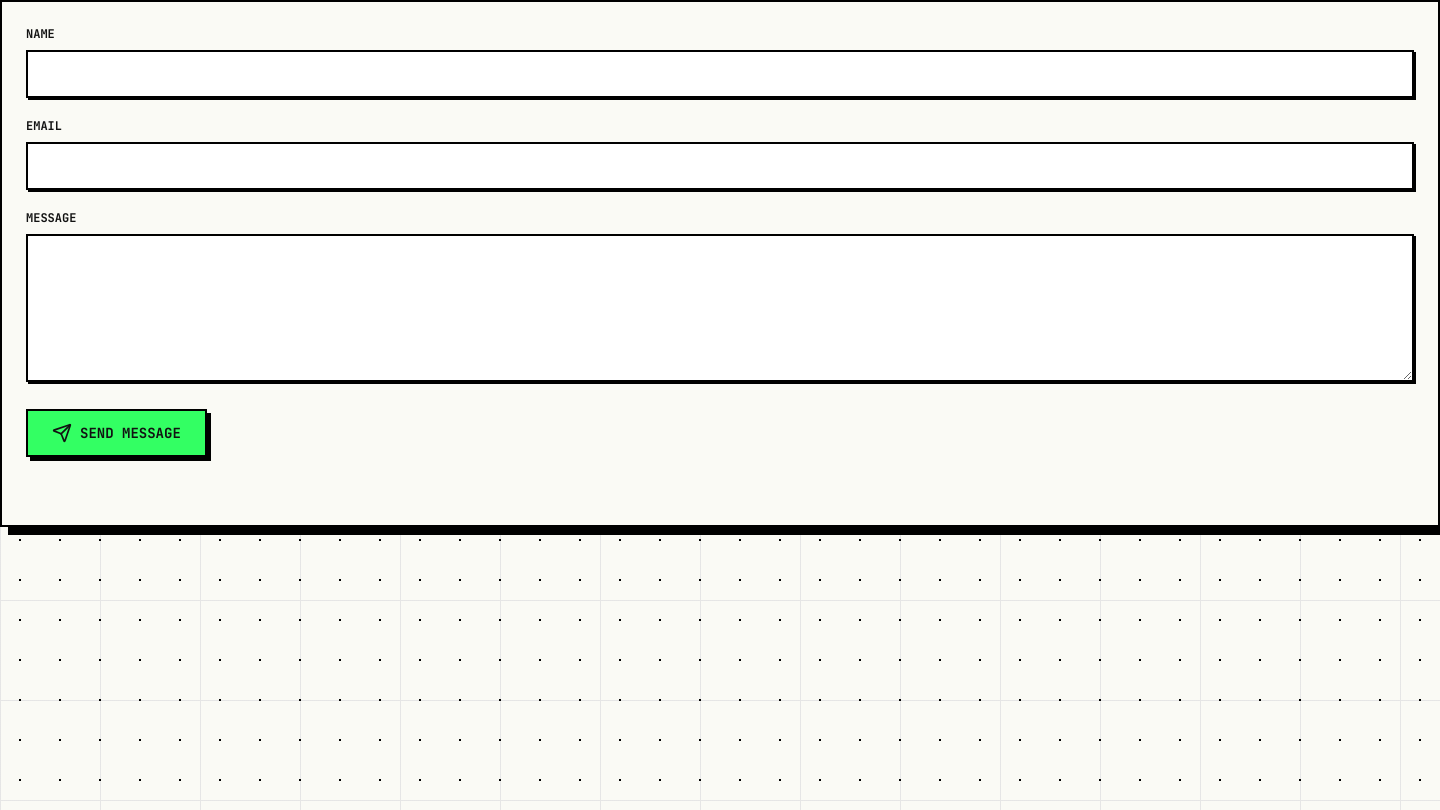
Test: ContactForm › opens a mailto link with encoded content when valid
Type "Jane" into the field labelled "NAME" at [720, 74], box [26,50,1414,98]
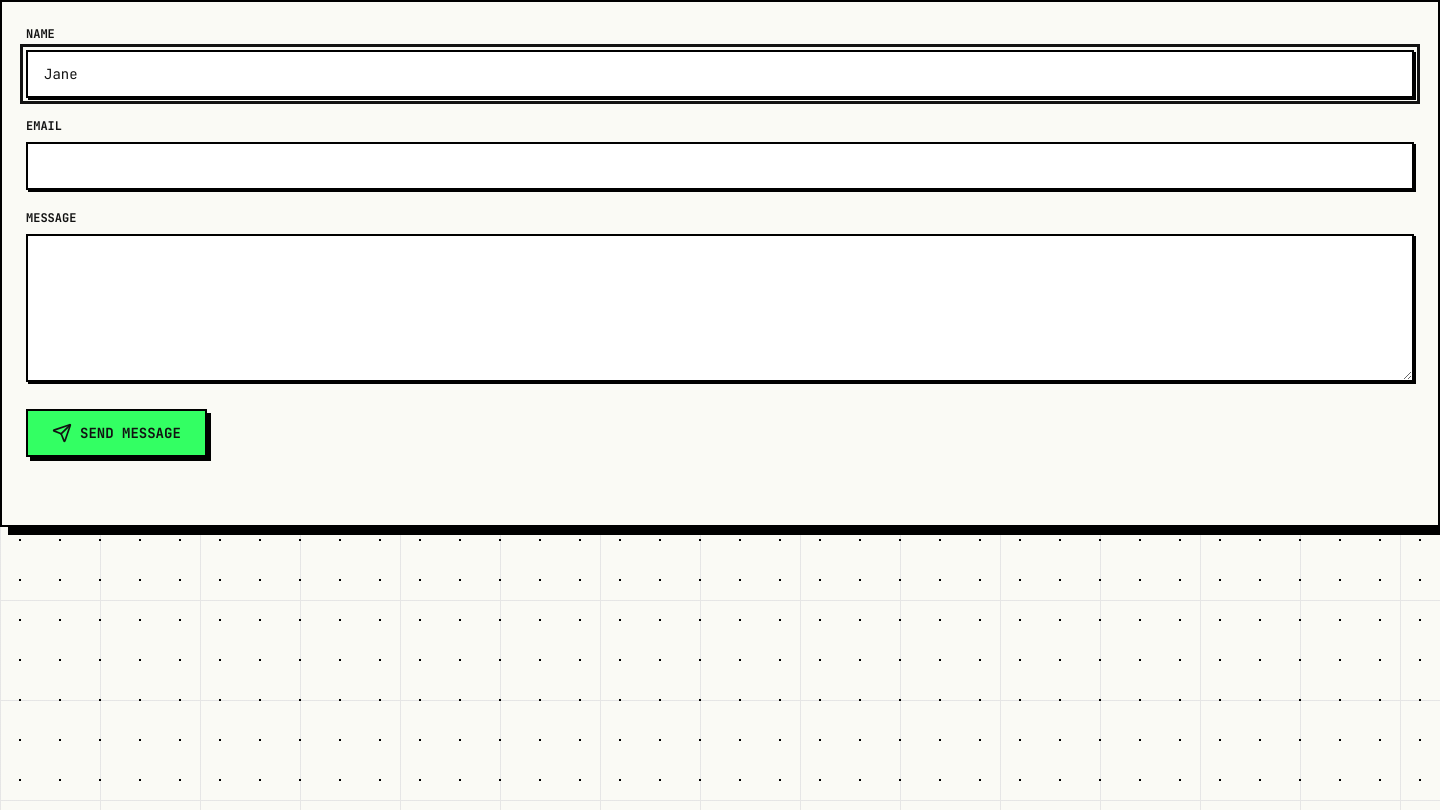
Type "jane@example.com" into the field labelled "EMAIL" at [720, 166], box [26,142,1414,190]
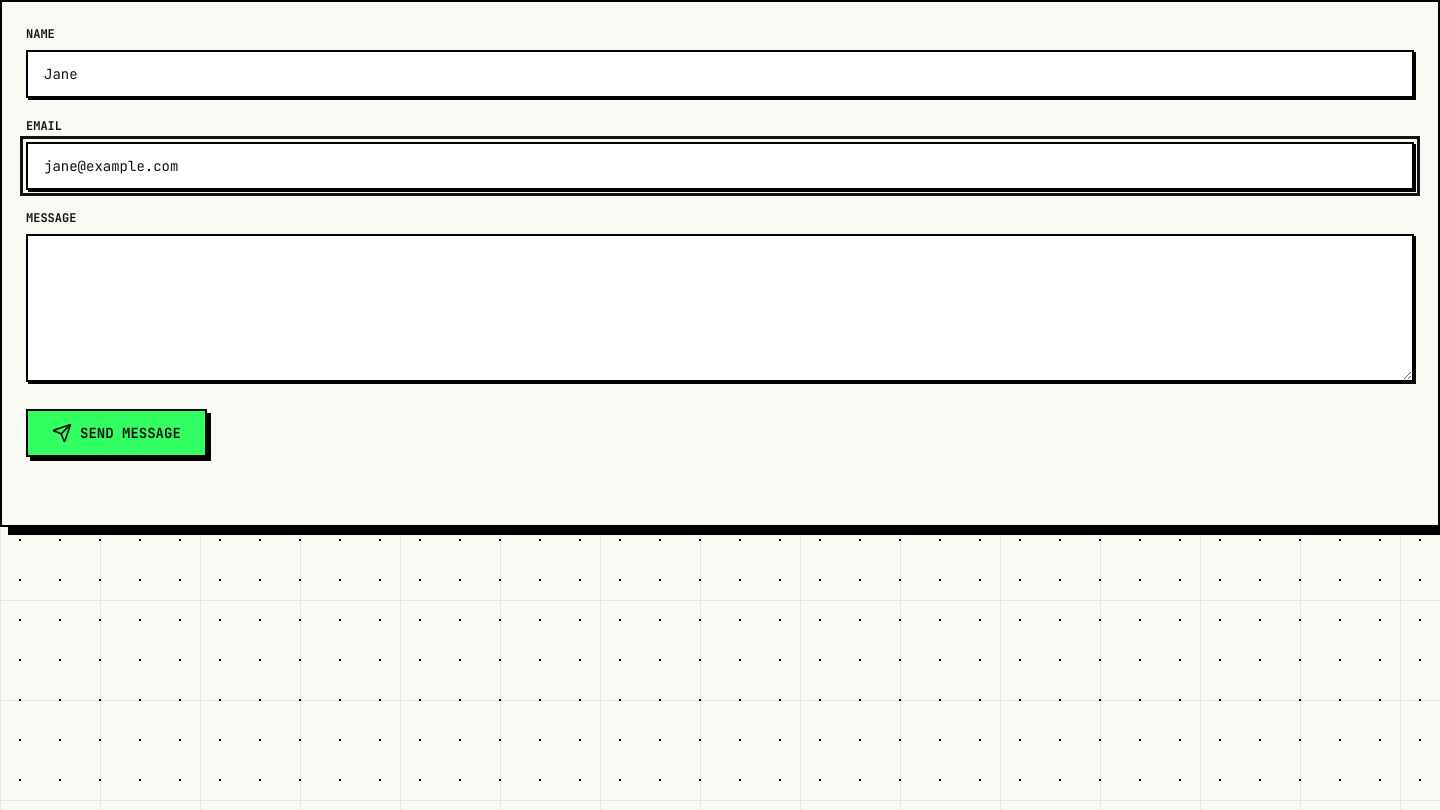
Type "Let's build something great." into the text box labelled "MESSAGE" at [720, 308], box [26,234,1414,382]
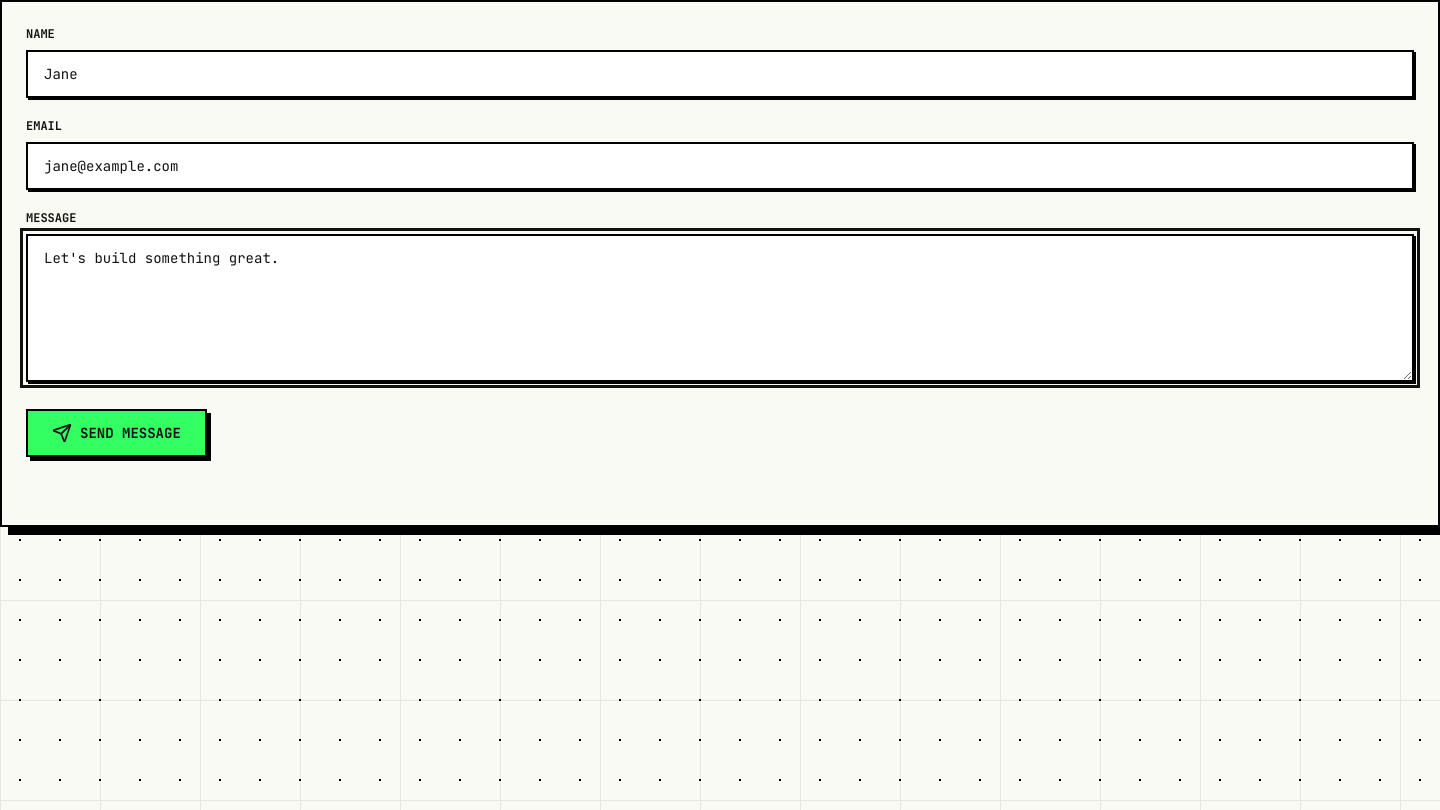
Click the button "SEND MESSAGE" at [116, 433], box [26,409,207,457]
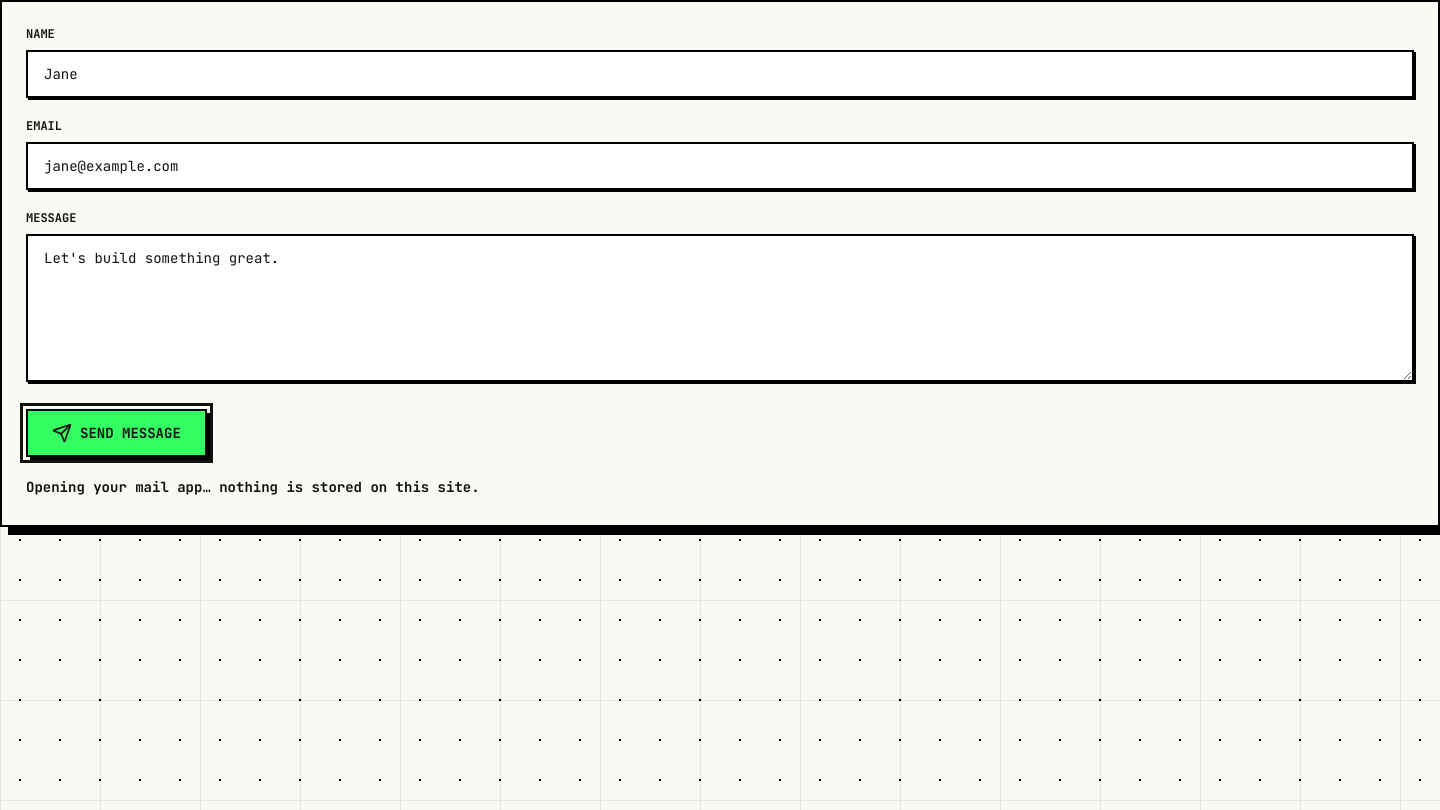
Expected: the message shows "mail app", [26,478,480,496]
